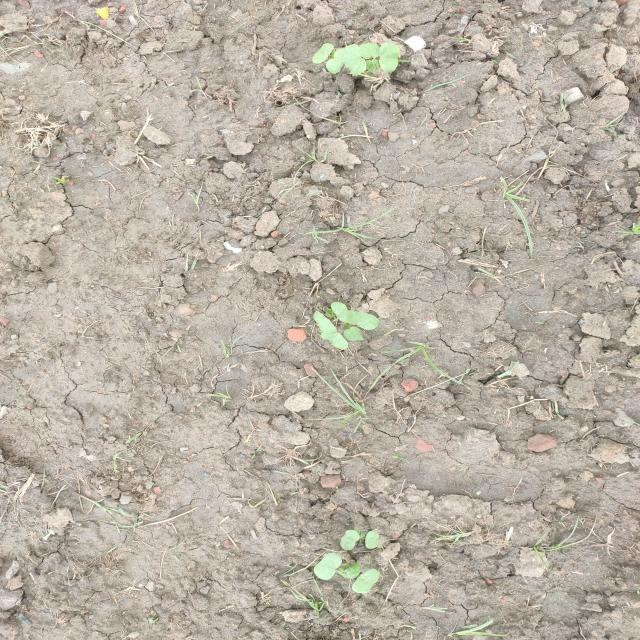seedling: (340, 44, 367, 76), (313, 553, 342, 580), (352, 568, 380, 593), (346, 310, 379, 330), (379, 42, 399, 72), (313, 311, 337, 334), (321, 332, 349, 349), (326, 49, 344, 74), (312, 43, 333, 64), (340, 530, 360, 550), (330, 302, 349, 323), (359, 42, 380, 59), (344, 327, 364, 341), (343, 563, 360, 579), (365, 531, 379, 549), (366, 59, 380, 73), (326, 308, 335, 317)
